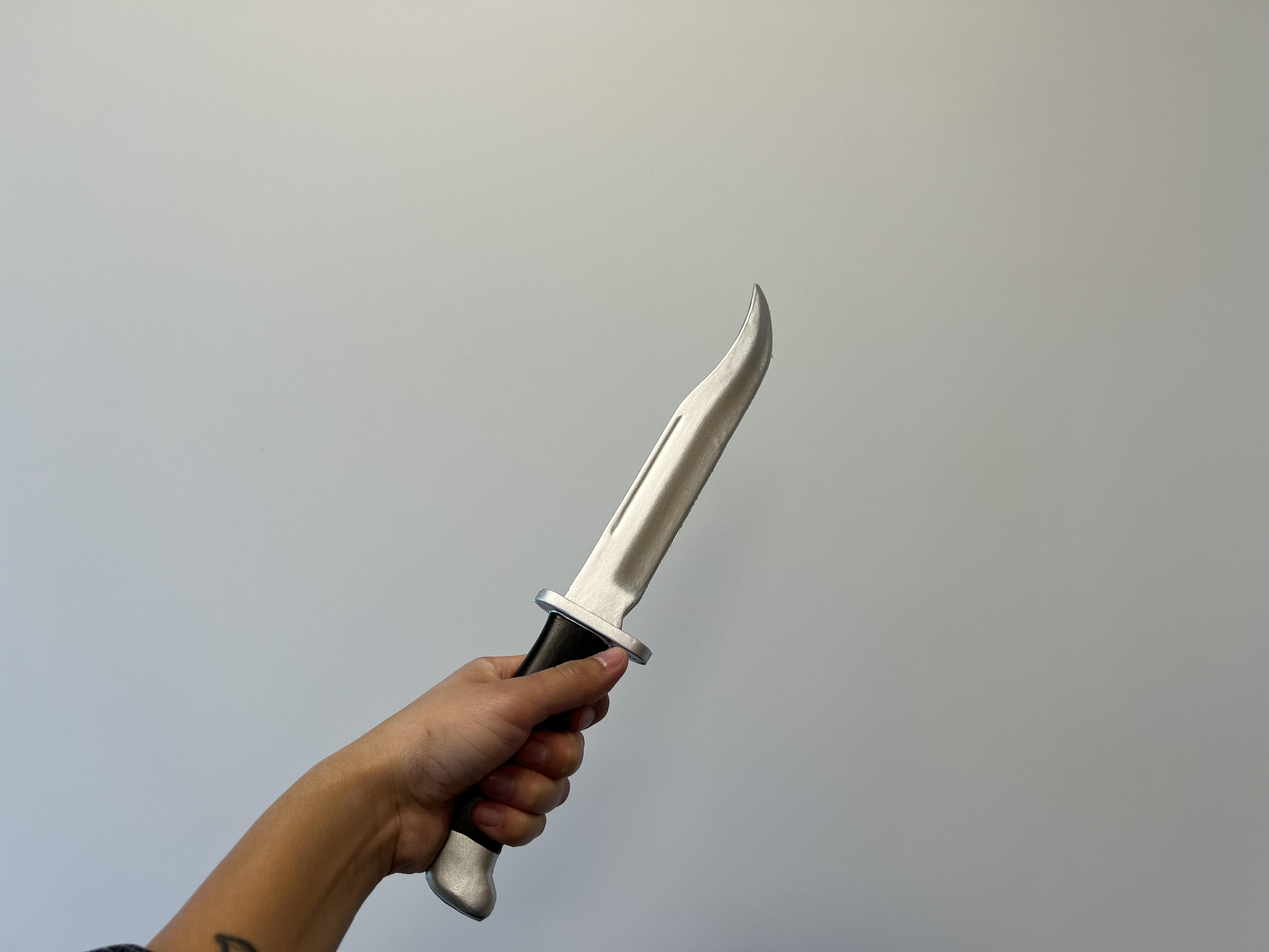Knife: (147, 647, 629, 952), (521, 282, 776, 676), (368, 650, 629, 863)
